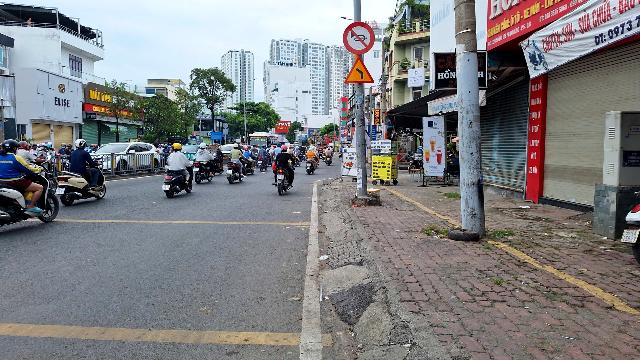cam-bop-coi: (343, 21, 375, 55)
cho-ngoat-nguy-hiem-ben-trai: (344, 56, 375, 83)
